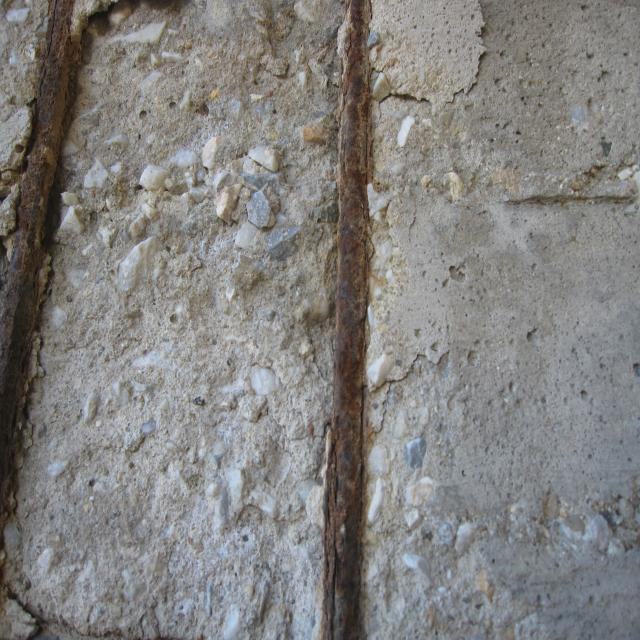corrosion: (0, 0, 89, 559), (319, 0, 392, 640)
